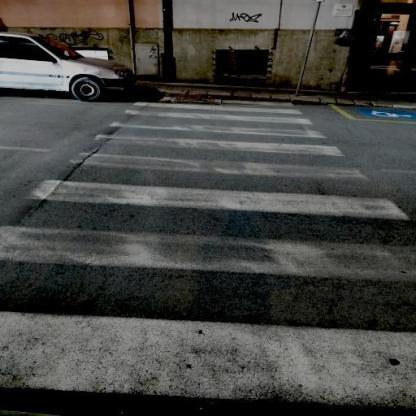crosswalk: (0, 221, 416, 404), (54, 132, 367, 182)
